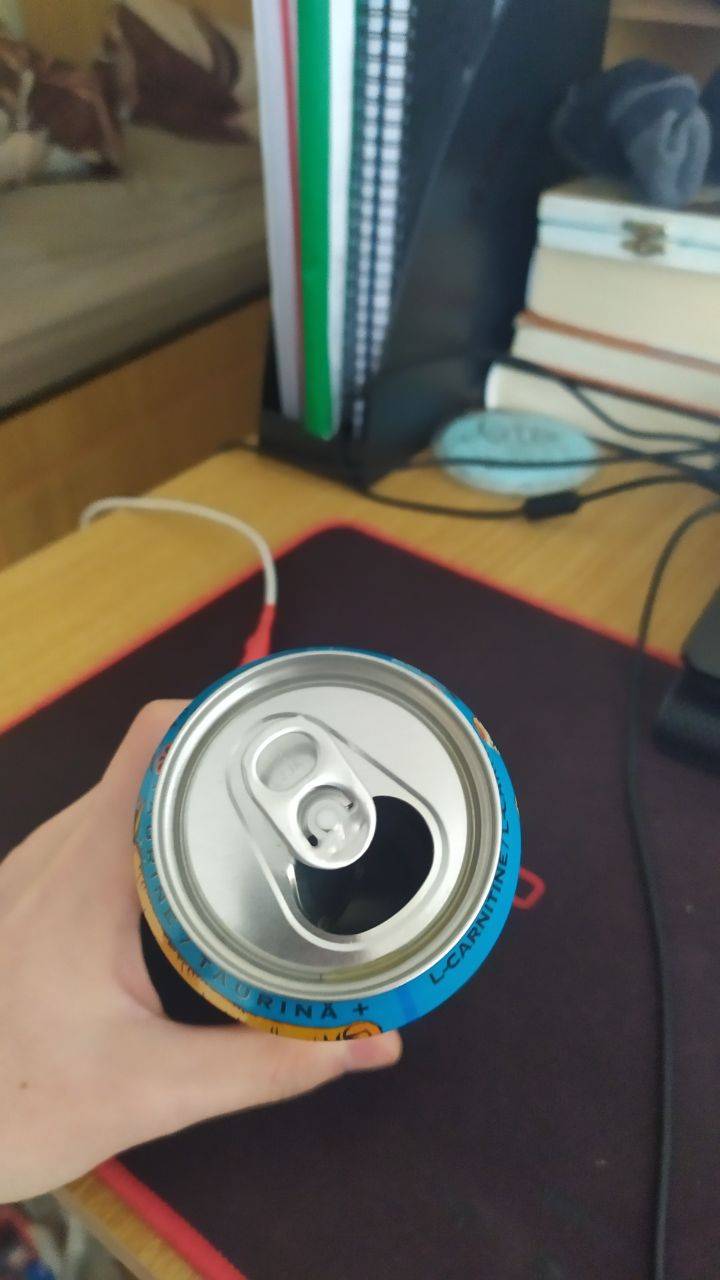Can: (129, 641, 531, 1043)
